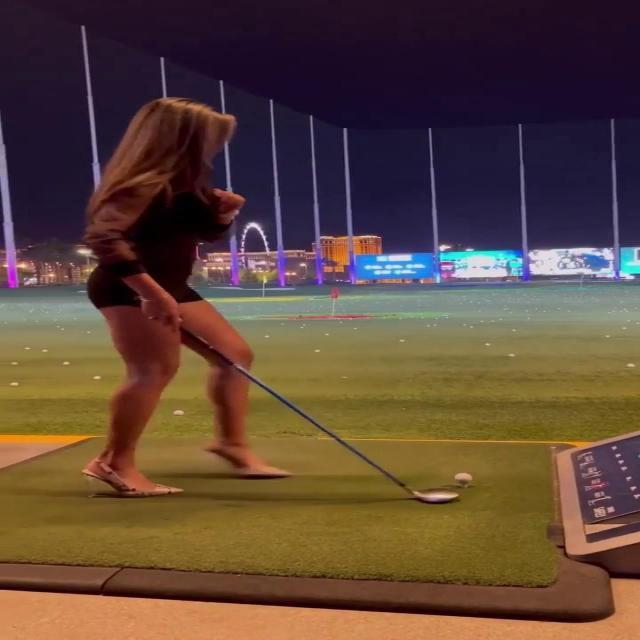ClubHead: (415, 488, 461, 502)
GolfBall: (455, 473, 472, 482)
